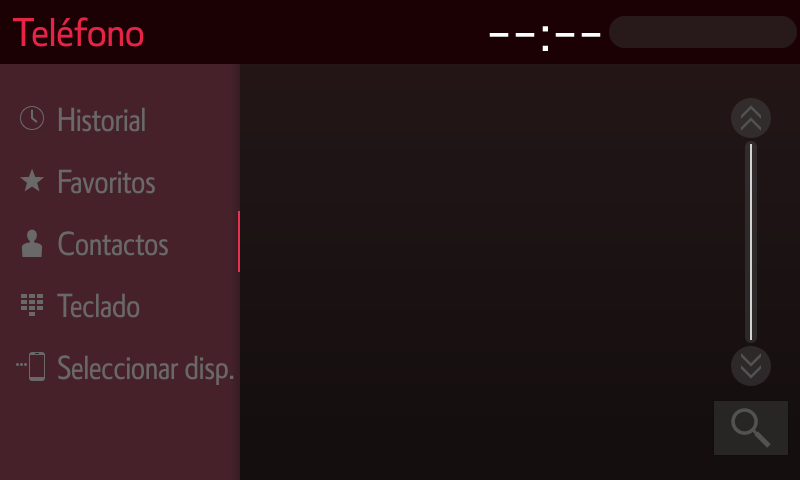untouchPart: (480, 14, 792, 49), (7, 347, 239, 393), (20, 222, 174, 263), (705, 393, 795, 463), (12, 7, 154, 49), (21, 96, 154, 137), (15, 167, 162, 204), (6, 288, 148, 321), (730, 96, 778, 138), (728, 347, 777, 386)
